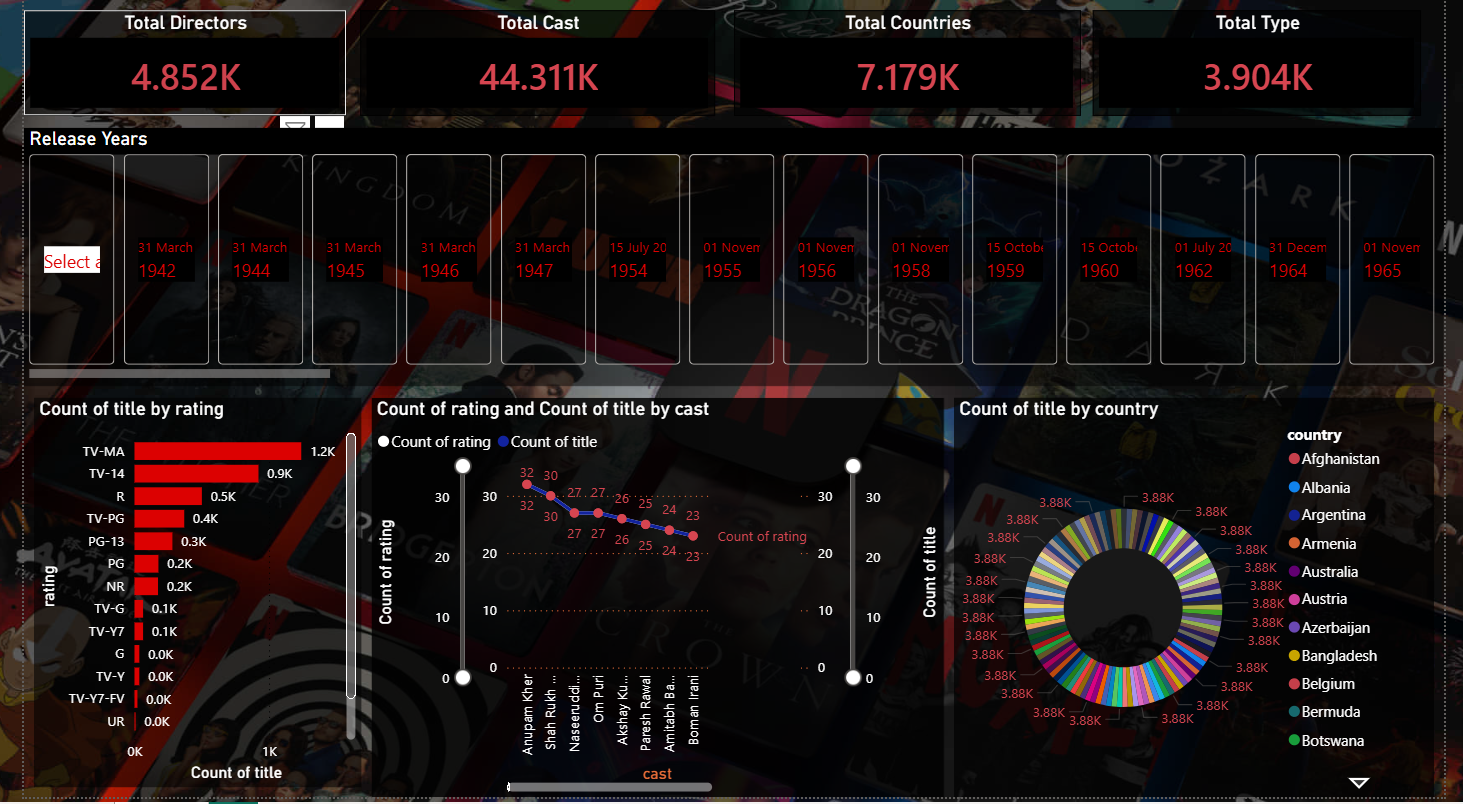

What the dashboard file says about the page in this screenshot:
{"tool":"powerbi","page":{"name":"Page 1","canvas":[1280,720],"ordinal":0},"visuals":[{"type":"cardVisual","title":"Total Directors","fields":{"Data":["CountNonNull(netflix_titles_directors.director)"]},"box":[0,10,290,95],"z":0},{"type":"cardVisual","title":"Total Cast","fields":{"Data":["CountNonNull(netflix_titles_cast.cast)"]},"box":[303.8,10,320,95],"z":1000},{"type":"cardVisual","title":"Total Countries","fields":{"Data":["CountNonNull(netflix_titles_countries.country)"]},"box":[640,10,312.5,95],"z":2000},{"type":"advancedSlicerVisual","title":"Release Years ","fields":{"Values":["netflix_titles.release_year"],"Label":["Min(netflix_titles.date_added)"]},"box":[0,116.2,1280,232.5],"z":3000},{"type":"cardVisual","title":"Total Type","fields":{"Data":["CountNonNull(netflix_titles.type)"]},"box":[963.8,10,296.2,95],"z":4000},{"type":"clusteredBarChart","fields":{"Category":["netflix_titles.rating"],"Y":["CountNonNull(netflix_titles.title)"]},"box":[8.8,360,295,351.2],"z":5000},{"type":"lineChart","fields":{"Category":["netflix_titles_cast.cast"],"Y":["CountNonNull(netflix_titles.rating)"],"Y2":["CountNonNull(netflix_titles.title)"]},"box":[313.8,360,516.2,360],"z":6000},{"type":"donutChart","fields":{"Series":["netflix_titles_countries.country"],"Y":["Count(netflix_titles.title)"]},"box":[838.8,360,432.5,360],"z":7000}]}

Visuals, with their boxes in screenshot pixels (x1, y1, x2, y2), scaled from the page's 1280x720 canvas onto the 1463x804 screenshot:
"Total Directors" cardVisual: [0, 11, 331, 117]
"Total Cast" cardVisual: [347, 11, 713, 117]
"Total Countries" cardVisual: [732, 11, 1089, 117]
"Release Years " advancedSlicerVisual: [0, 130, 1462, 389]
"Total Type" cardVisual: [1102, 11, 1440, 117]
clusteredBarChart - netflix_titles.rating x CountNonNull(netflix_titles.title): [10, 402, 347, 794]
lineChart - netflix_titles_cast.cast x CountNonNull(netflix_titles.rating): [359, 402, 949, 803]
donutChart - netflix_titles_countries.country x Count(netflix_titles.title): [959, 402, 1453, 803]
